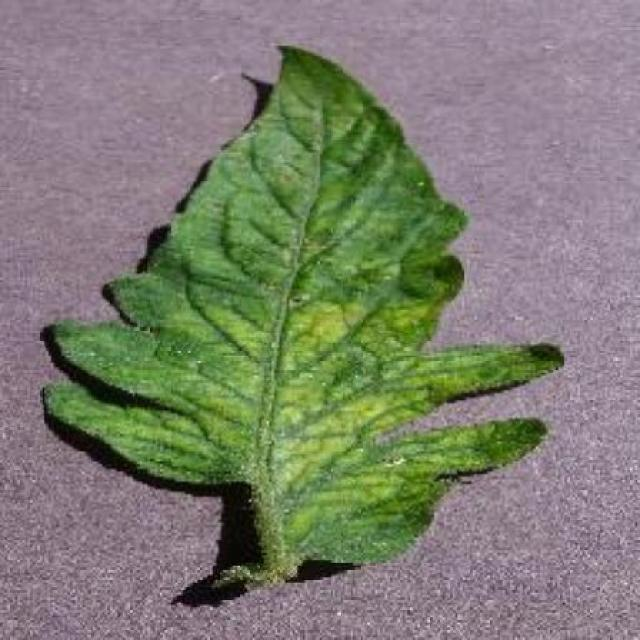Mosaic Virus: (45, 38, 565, 566)
